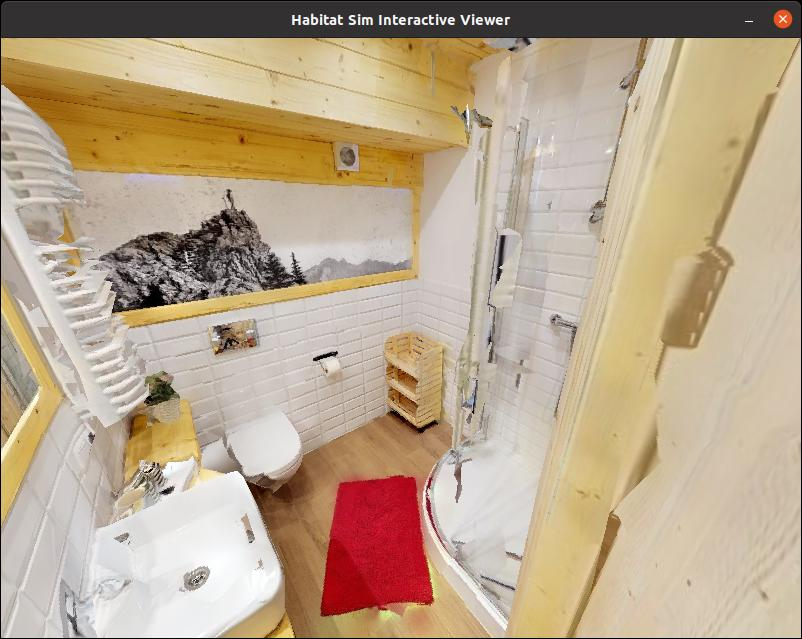shower: (415, 65, 642, 621)
sink: (33, 453, 301, 639)
toilet: (222, 391, 319, 511)
